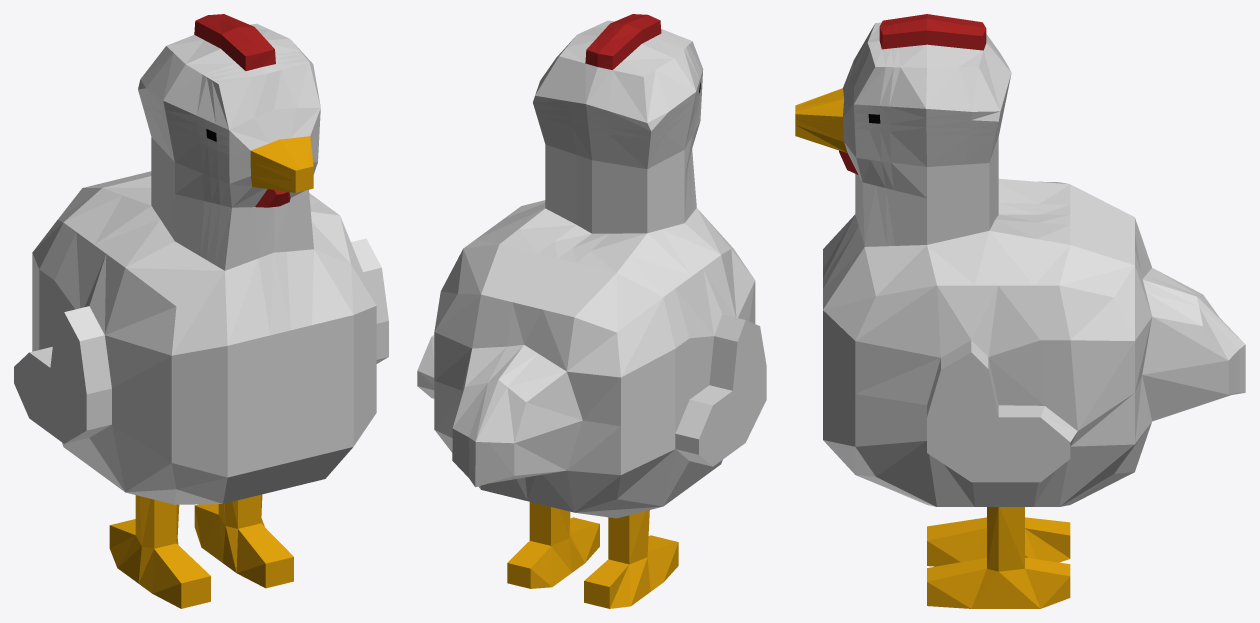
The model's file is Chicken.fbx.
3 renders of one model, left to right at view 1: azimuth 30°, elevation 25°; view 2: azimuth 150°, elevation 25°; view 3: azimuth 270°, elevation 25°, orthographic. The views are drawn at different scales.
Visible parts, largest first — view 1: Chicken; view 2: Chicken; view 3: Chicken.
Part boxes in pixels (x1,y1,x2,y2): Chicken: (14, 14, 388, 608); Chicken: (417, 14, 766, 608); Chicken: (795, 14, 1245, 608).
Bounding box in the file's own units: 67.2 × 121 × 87.93.
